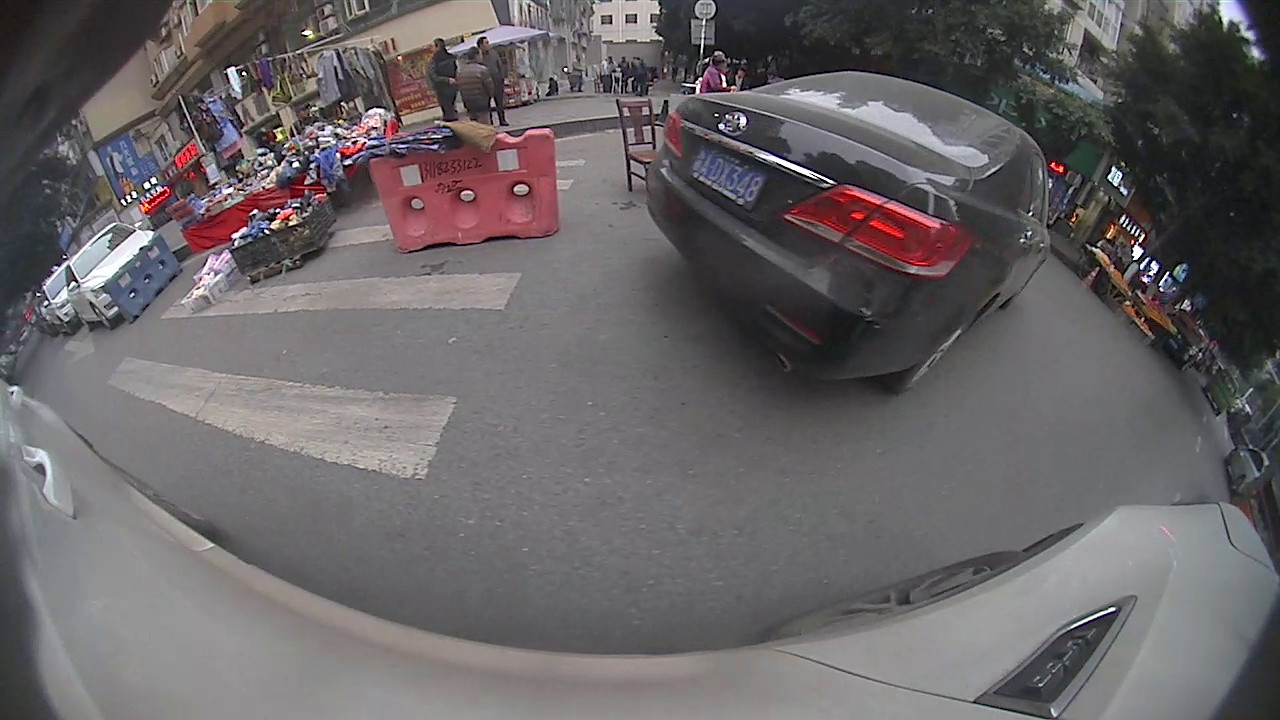car: (644, 70, 1052, 394), (63, 221, 157, 333)
front: (89, 301, 112, 334)
person: (457, 46, 490, 126), (429, 37, 456, 123)
rear: (891, 307, 989, 397)
